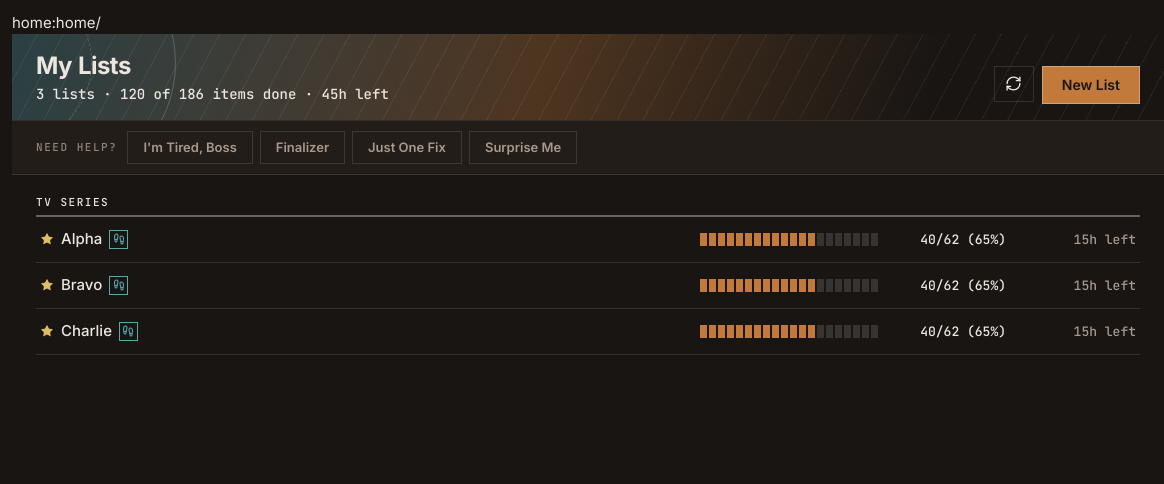
Test case: Home updates (task 10.22c) › the Check for updates button › reports the lists it could not reach, once, and still shows what it found
Check: the text "Alpha" is shown, box [61,230,102,249]
Click the button named "Check for updates".
click(1014, 84)  # box [994,66,1034,102]
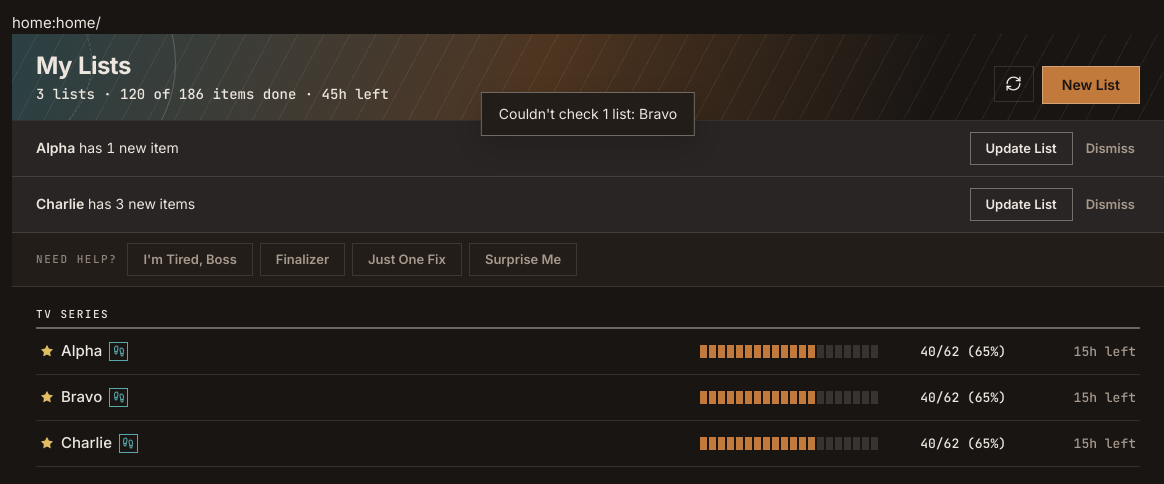
Check: the element showing "Alpha has 1 new item Update List Dismiss" is shown, box [12,121,1163,177]
Check: the element showing "Charlie has 3 new items Update List Dismiss" is shown, box [12,177,1163,233]
